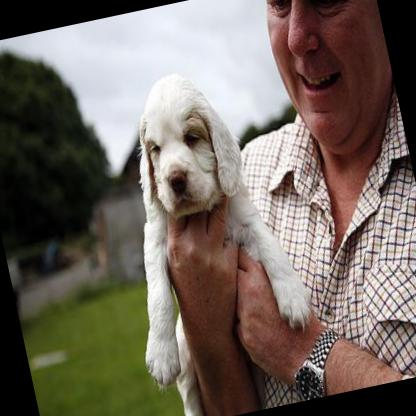clumber: (87, 55, 327, 416)
